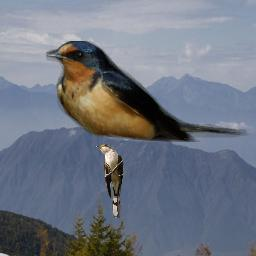Cuckoo: (96, 144, 124, 218)
Swallow: (46, 41, 249, 142)
